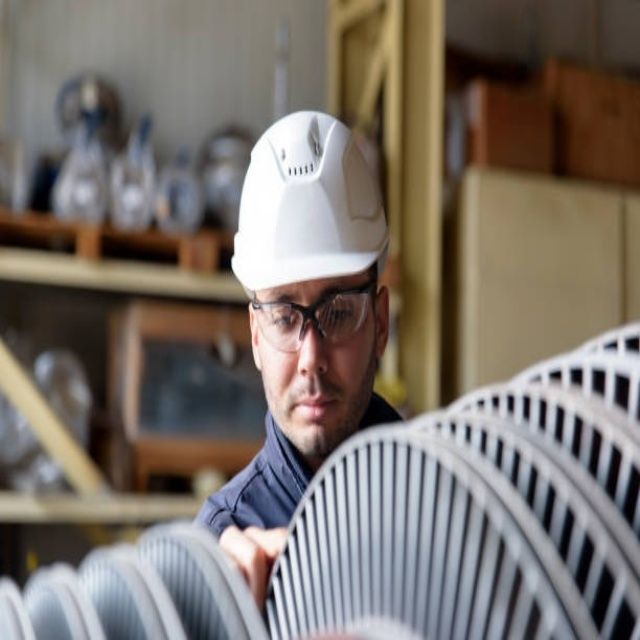Gafas: (250, 277, 380, 353)
Sin_mascara: (279, 383, 344, 455)
